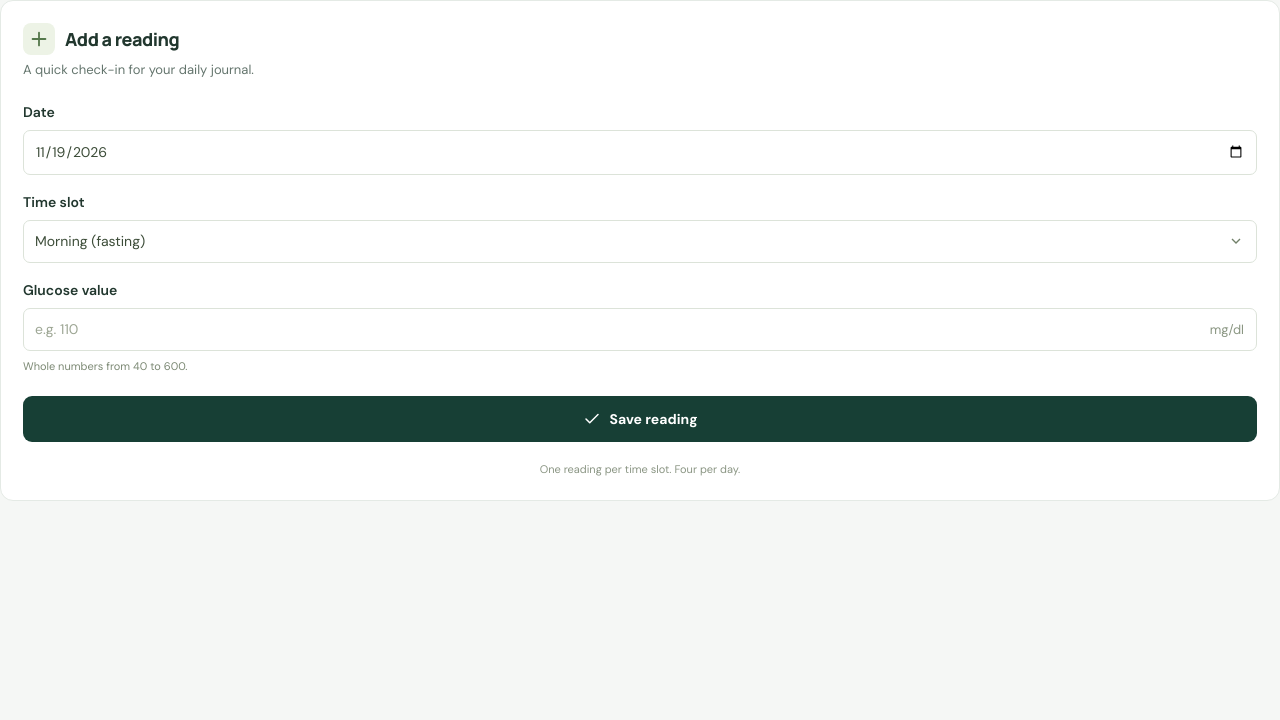
Test: Reading form › surfaces a server duplicate-slot error and keeps the entered value
The image size is (1280, 720).
Type "123" into the field labelled "Glucose value" at (640, 329), box [23,308,1257,350]
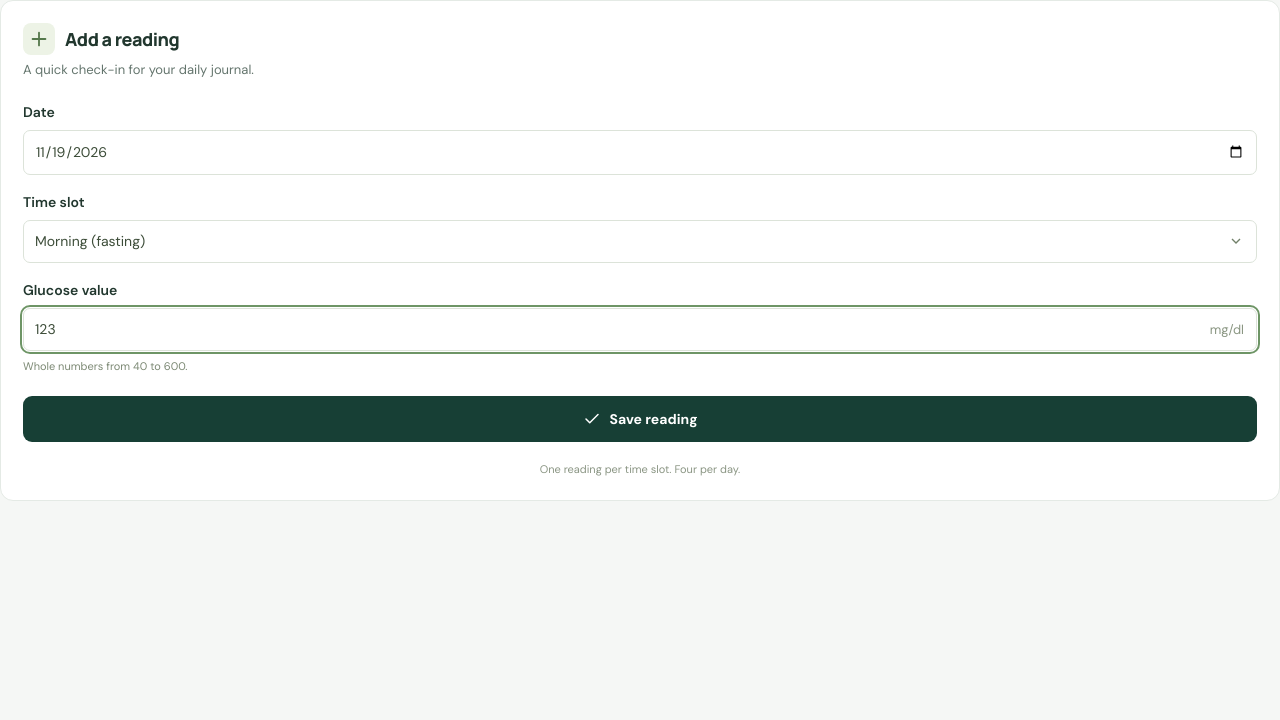
Click the button "Save reading" at (640, 419), box [23,396,1257,442]
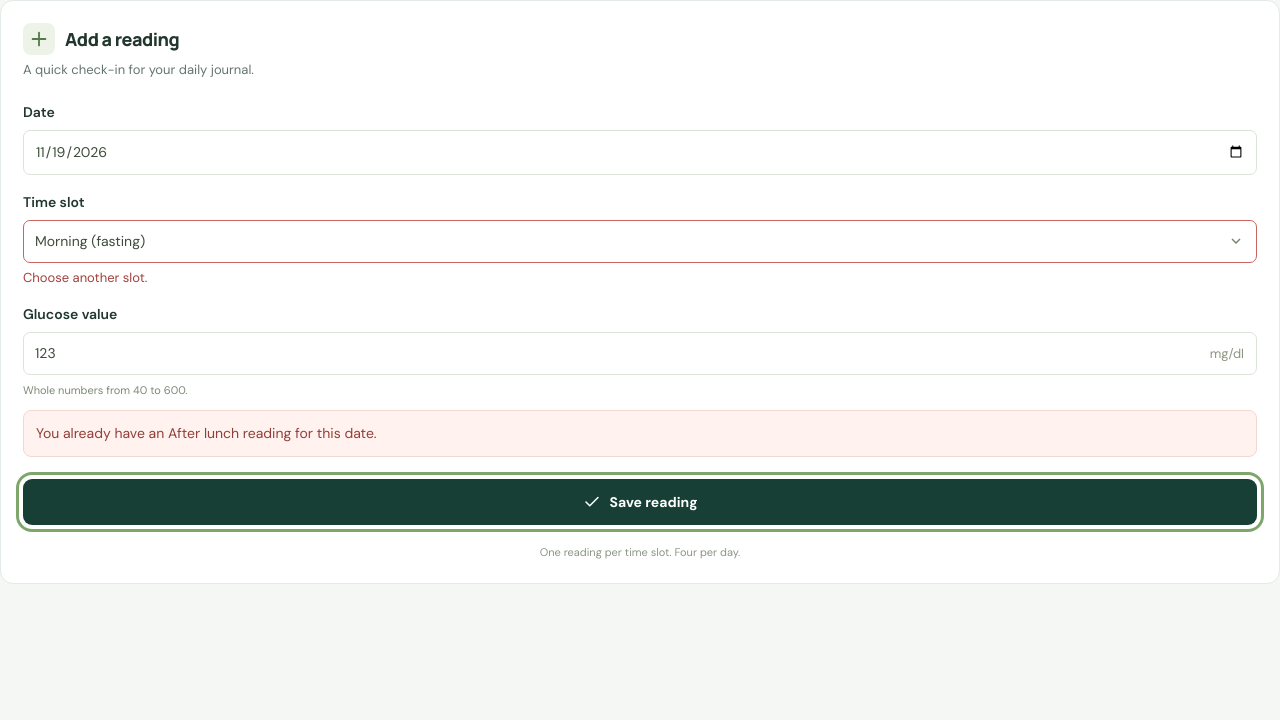
Check: the text "You already have an After lunch reading for this date." is shown, box [23,410,1257,457]
